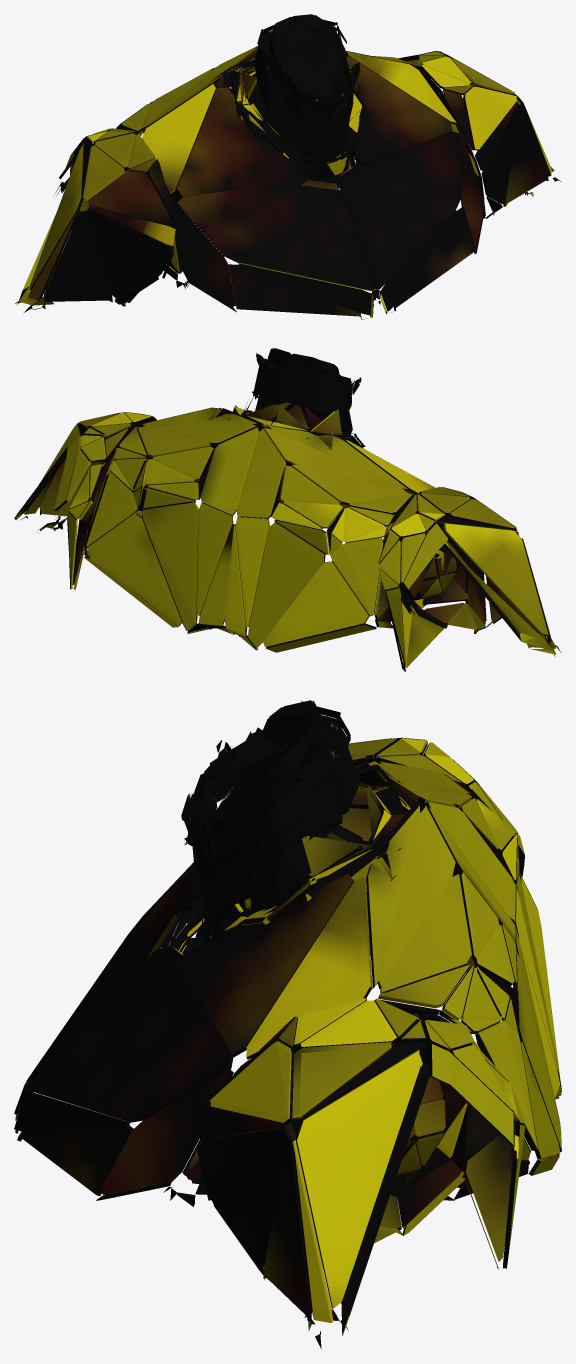
The model's file is body1.glb.
3 renders of one model, top to bottom at view 1: azimuth 30°, elevation 25°; view 2: azimuth 150°, elevation 25°; view 3: azimuth 270°, elevation 25°, orthographic. The views are drawn at different scales.
Visible parts, largest first — view 1: Ultron 1, Ultron 1.001; view 2: Ultron 1, Ultron 1.001; view 3: Ultron 1, Ultron 1.001.
Part boxes in pixels (<box>): Ultron 1: <box>15,46,561,319</box>; Ultron 1.001: <box>254,14,360,161</box>; Ultron 1: <box>14,396,560,671</box>; Ultron 1.001: <box>252,348,361,434</box>; Ultron 1: <box>14,737,561,1349</box>; Ultron 1.001: <box>181,700,360,940</box>.
Bounding box in the file's own units: 1.32 × 0.5532 × 0.6628.
Materials: 2 (2 with a texture image).
